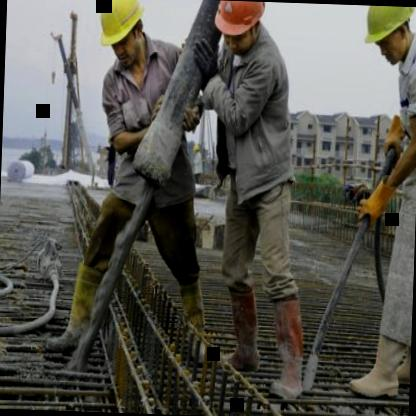helmet: (90, 0, 149, 70), (359, 5, 416, 68), (214, 1, 270, 53)
